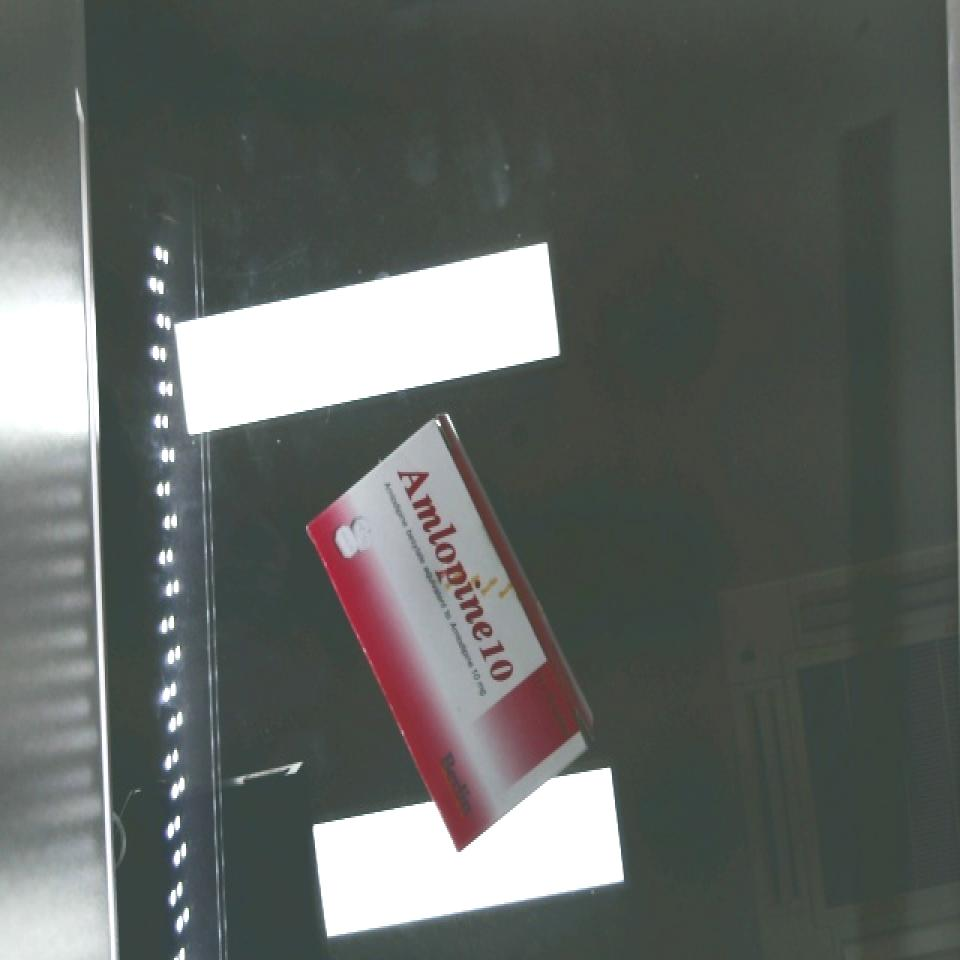medicine_box: (285, 417, 614, 852)
medicine_label_obb: (374, 436, 540, 705)
